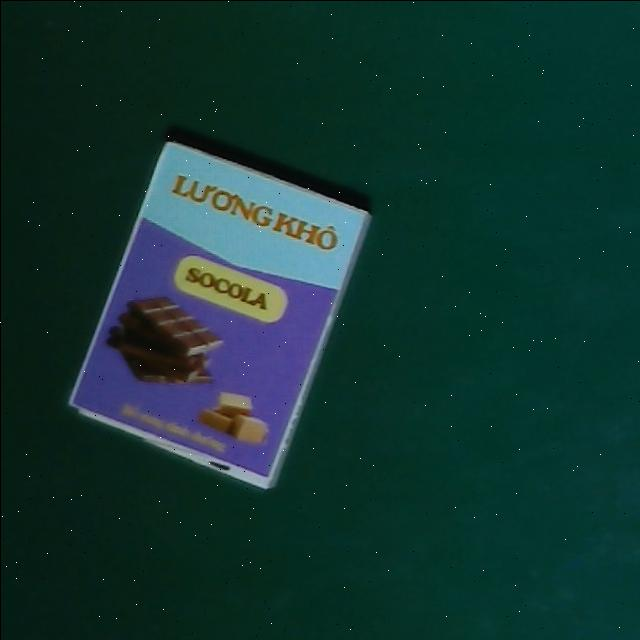socola: (62, 136, 374, 492)
